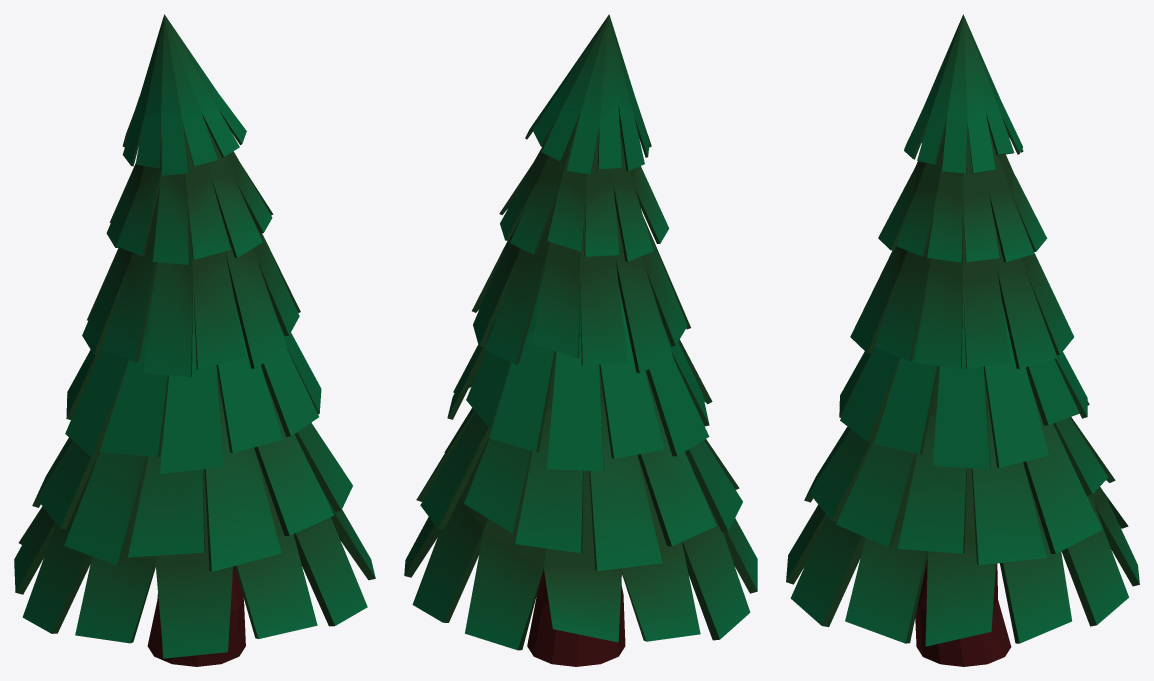
File: tree_1_2.fbx
3 views of the same model, side by side, from view 1: azimuth 30°, elevation 25°; view 2: azimuth 150°, elevation 25°; view 3: azimuth 270°, elevation 25° (orthographic). The views are drawn at different scales.
Parts seen in each view (by area): view 1: tree_1_2; view 2: tree_1_2; view 3: tree_1_2.
Part boxes in pixels (<box>): tree_1_2: <box>14,14,375,666</box>; tree_1_2: <box>404,14,757,666</box>; tree_1_2: <box>786,14,1139,666</box>.
Bounding box in the file's own units: 270 × 535 × 278.
